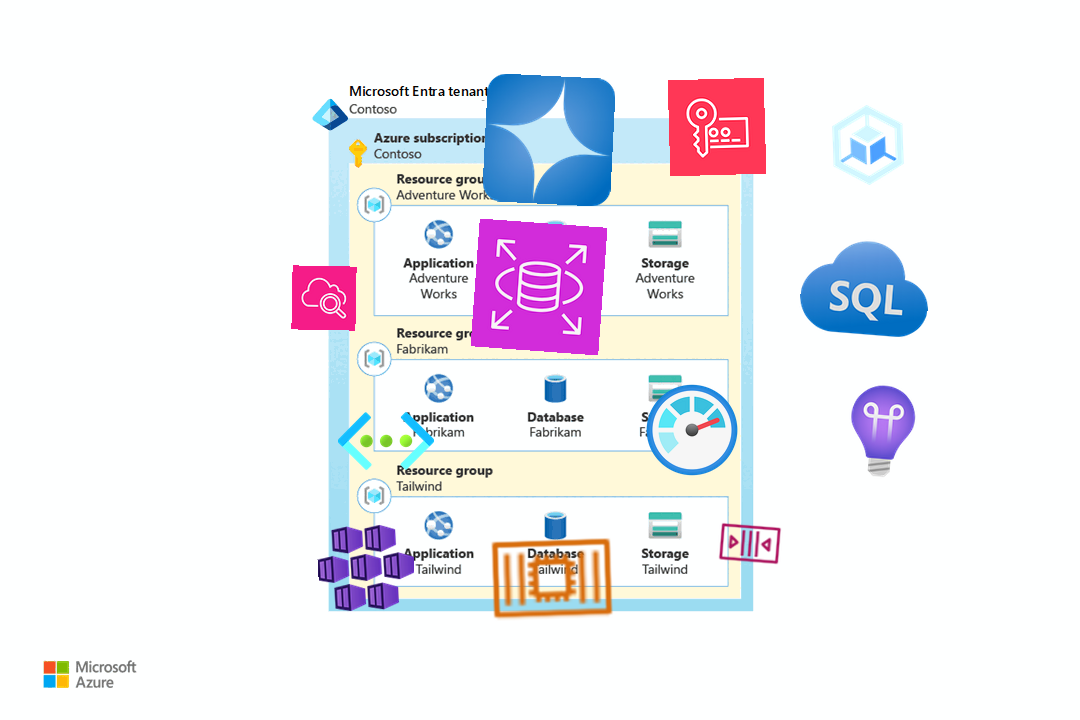aws_amazon_cloudwatch: (291, 265, 357, 331)
aws_amazon_rds: (470, 218, 608, 356)
aws_elastic_container_service_container_2: (485, 511, 619, 645)
aws_key_management_service: (667, 77, 767, 177)
aws_simple_queue_service_queue: (715, 508, 785, 578)
azure_application_insights: (830, 379, 934, 483)
azure_kubernetes_services: (315, 516, 417, 618)
azure_monitor: (643, 381, 741, 479)
azure_openai: (481, 72, 617, 208)
azure_sql: (796, 221, 934, 359)
azure_virtual_networks: (337, 392, 435, 490)
gcp_google_kubernetes_engine: (818, 95, 918, 195)
